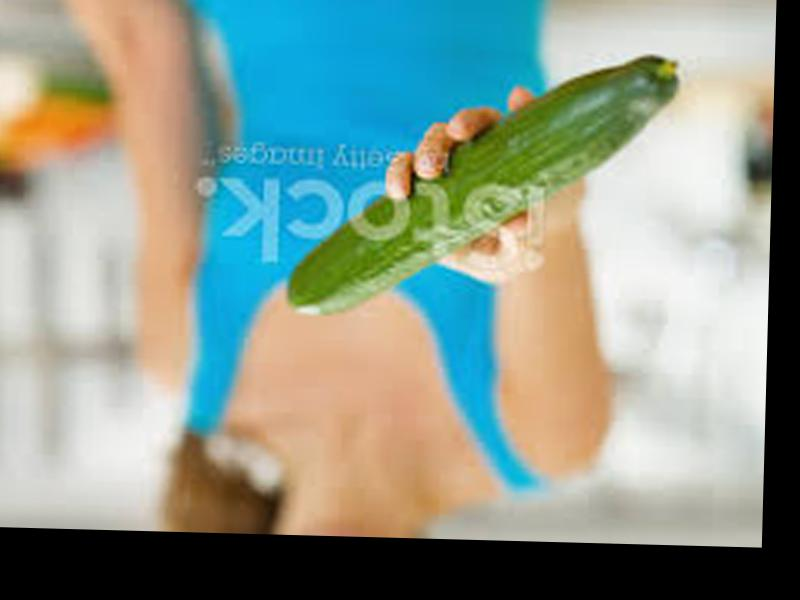Cucumber: (284, 44, 678, 324)
